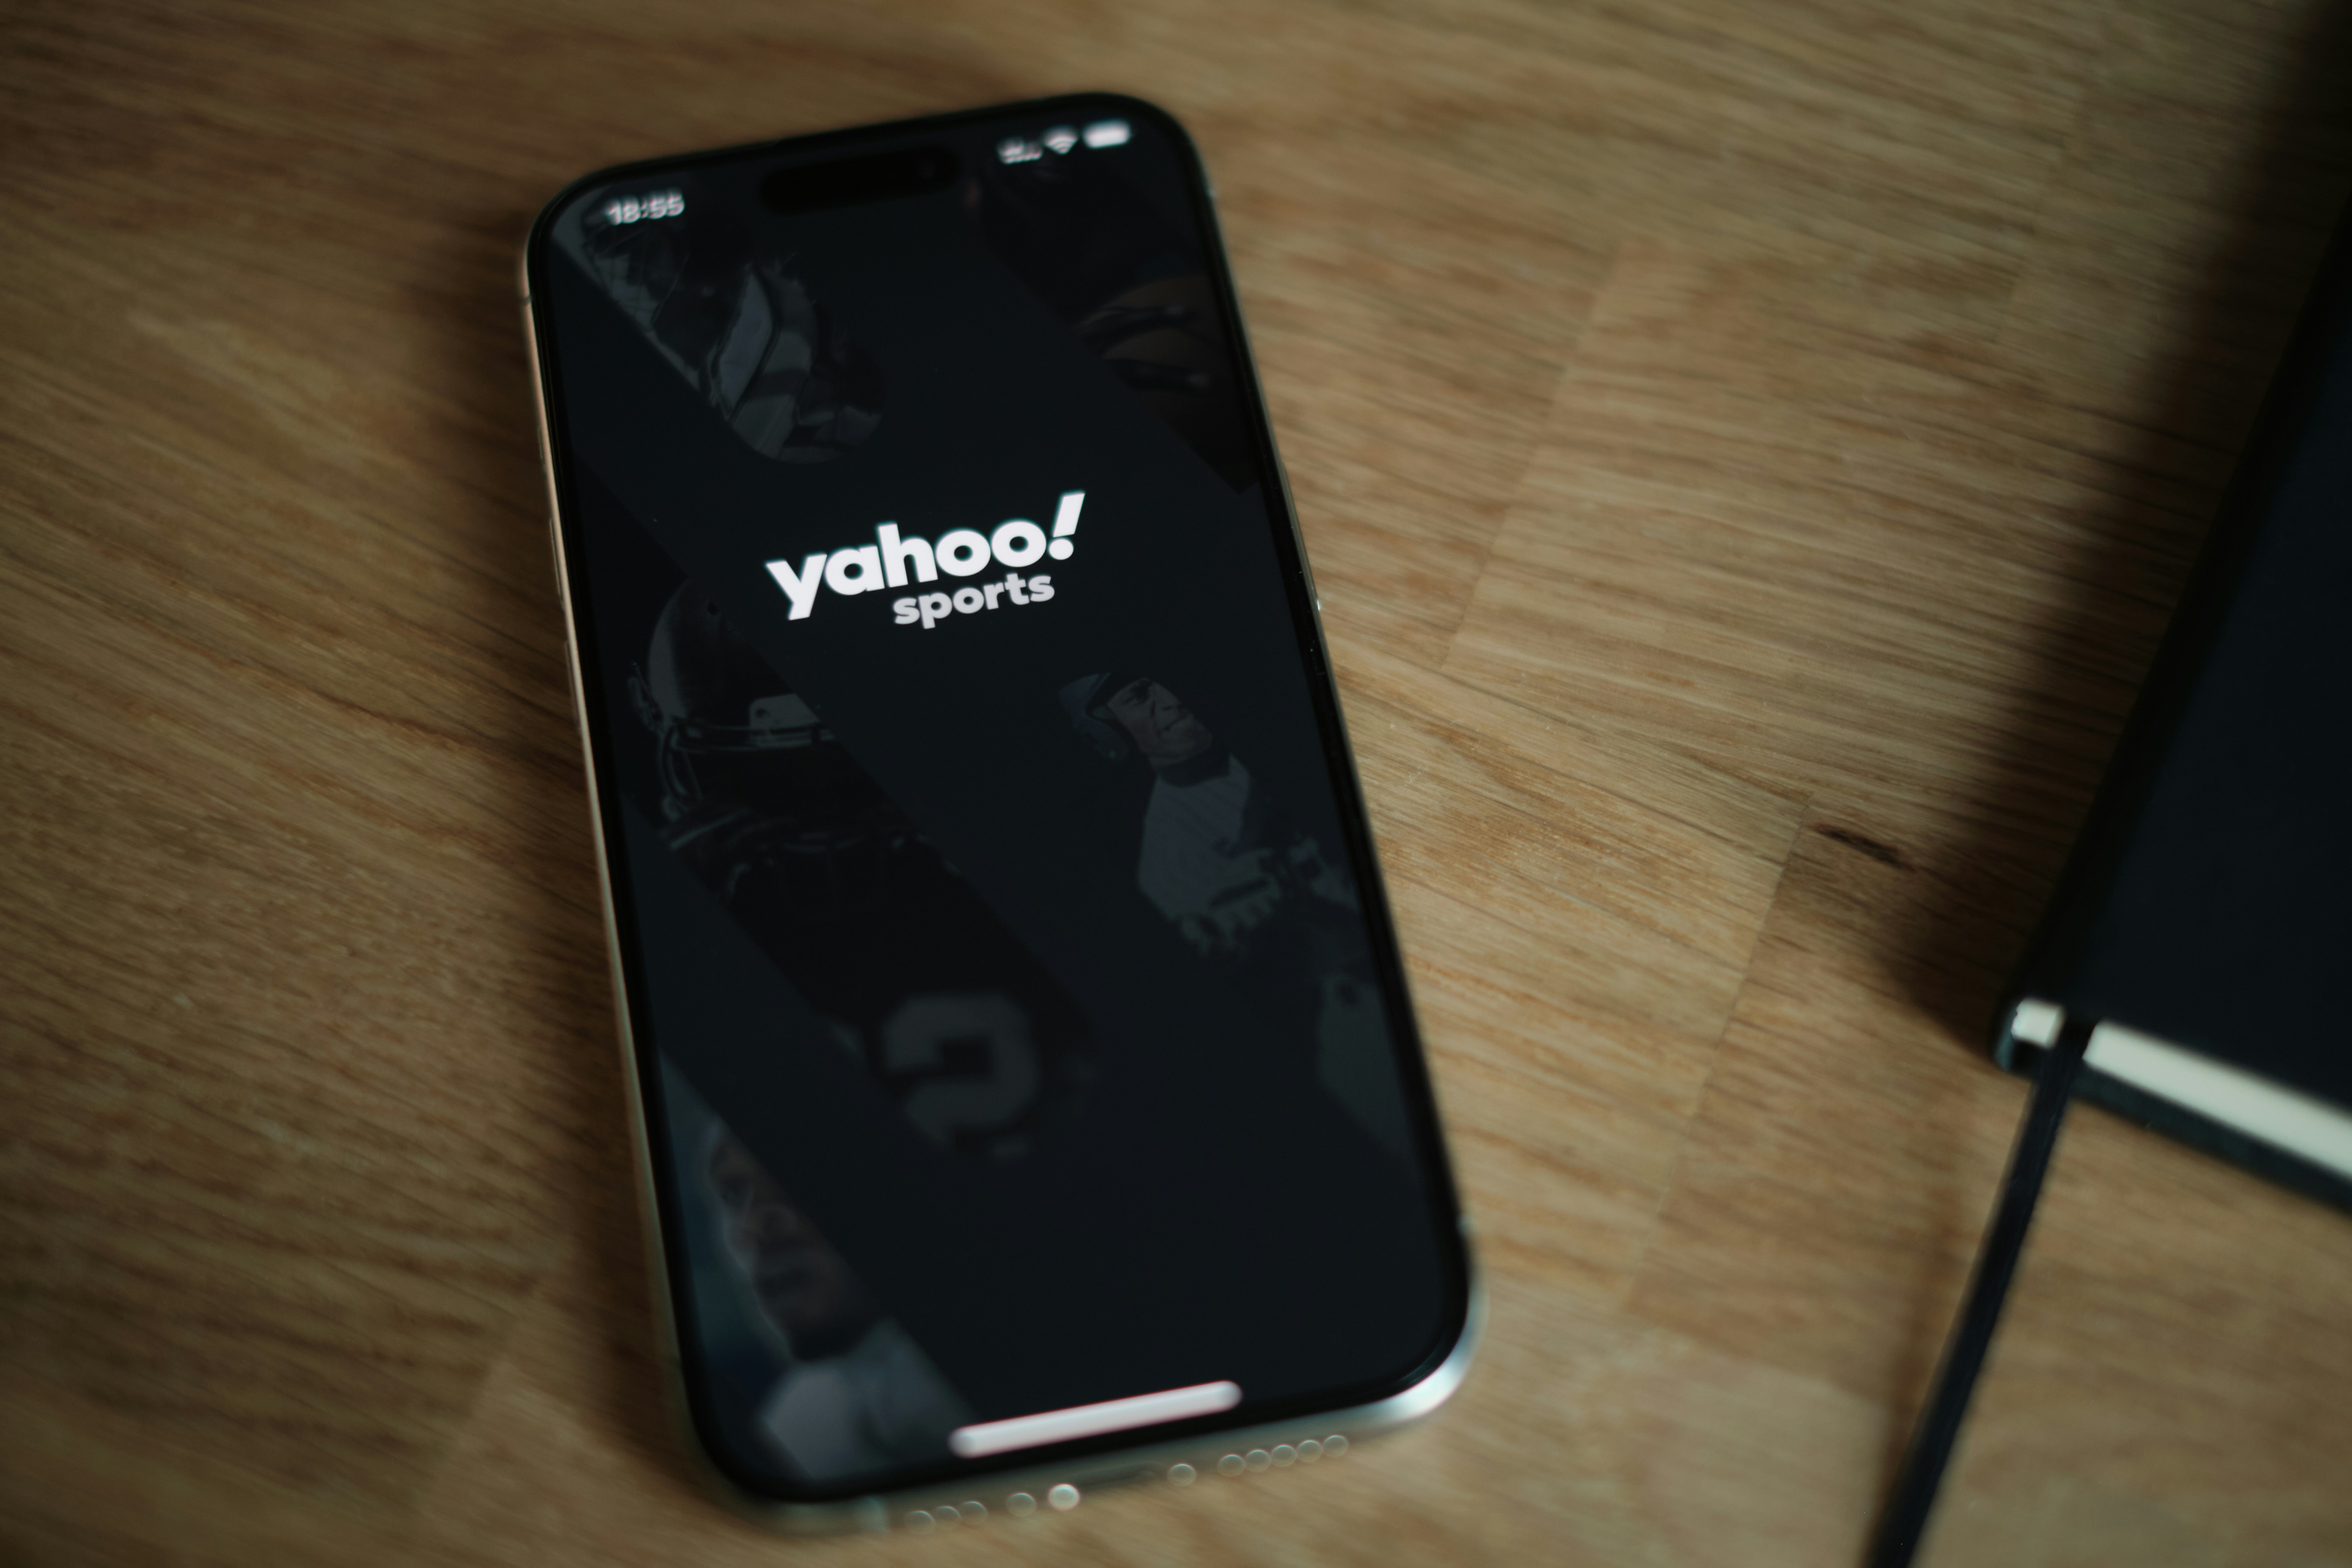p6: (485, 88, 1565, 1542)
